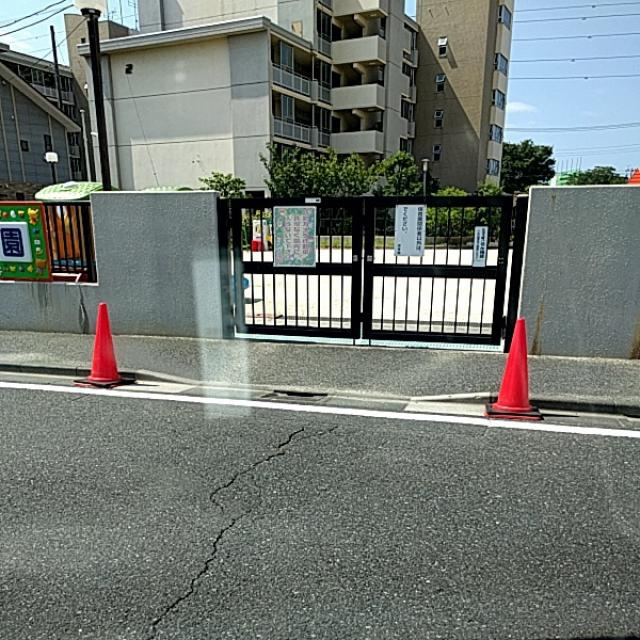pothole: (208, 452, 293, 566)
